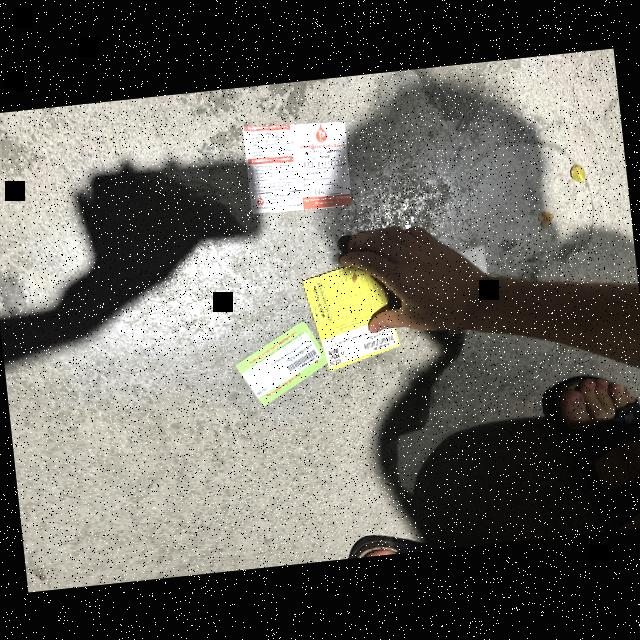scrap_paper: (236, 108, 361, 222), (300, 257, 410, 378), (228, 313, 334, 410)
